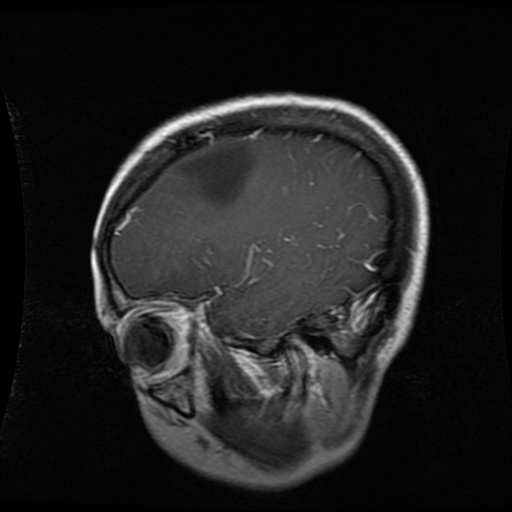glioma: (178, 140, 253, 203)
